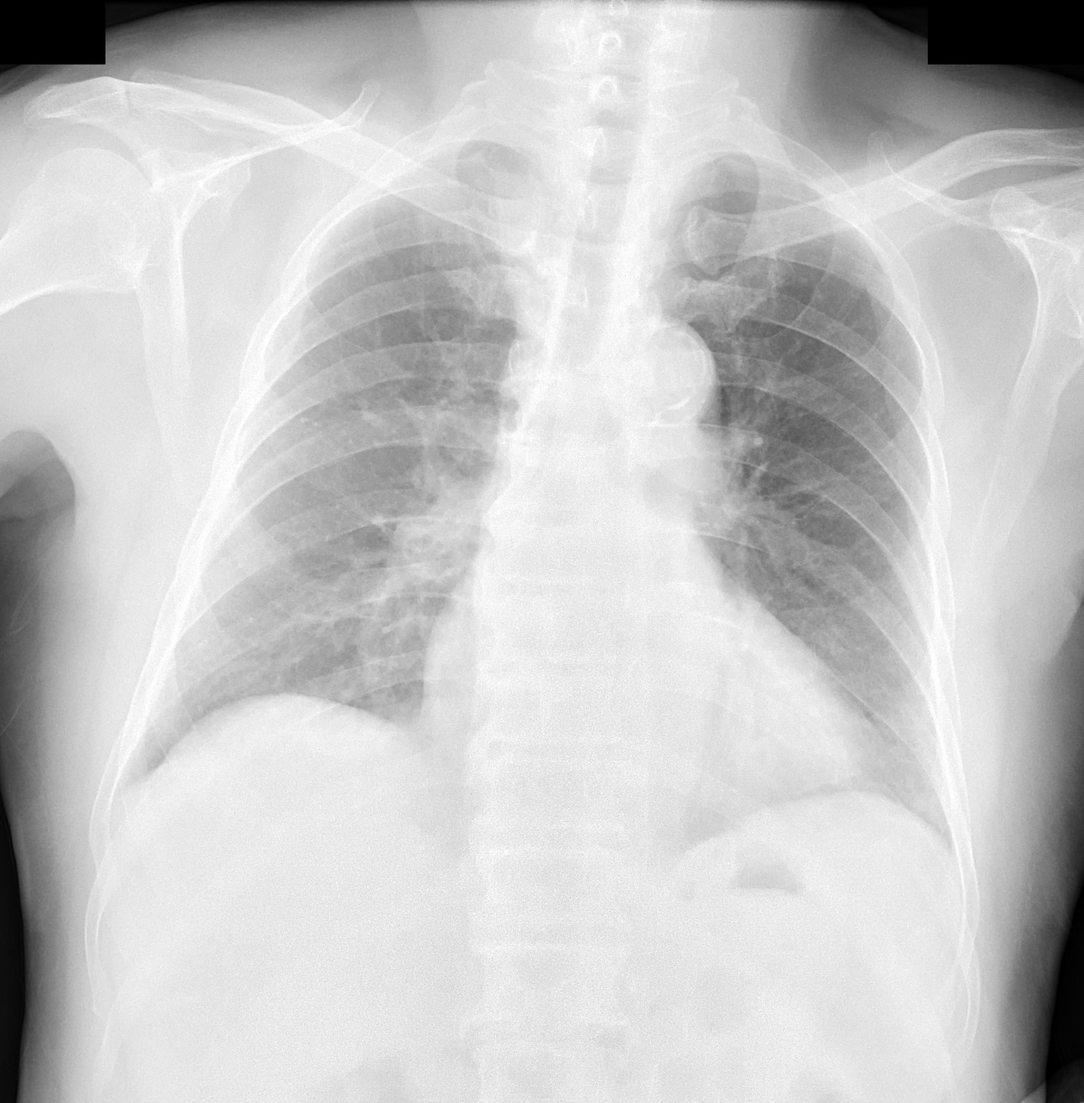Aortic enlargement: (597, 317, 724, 432)
Cardiomegaly: (416, 619, 893, 805)
